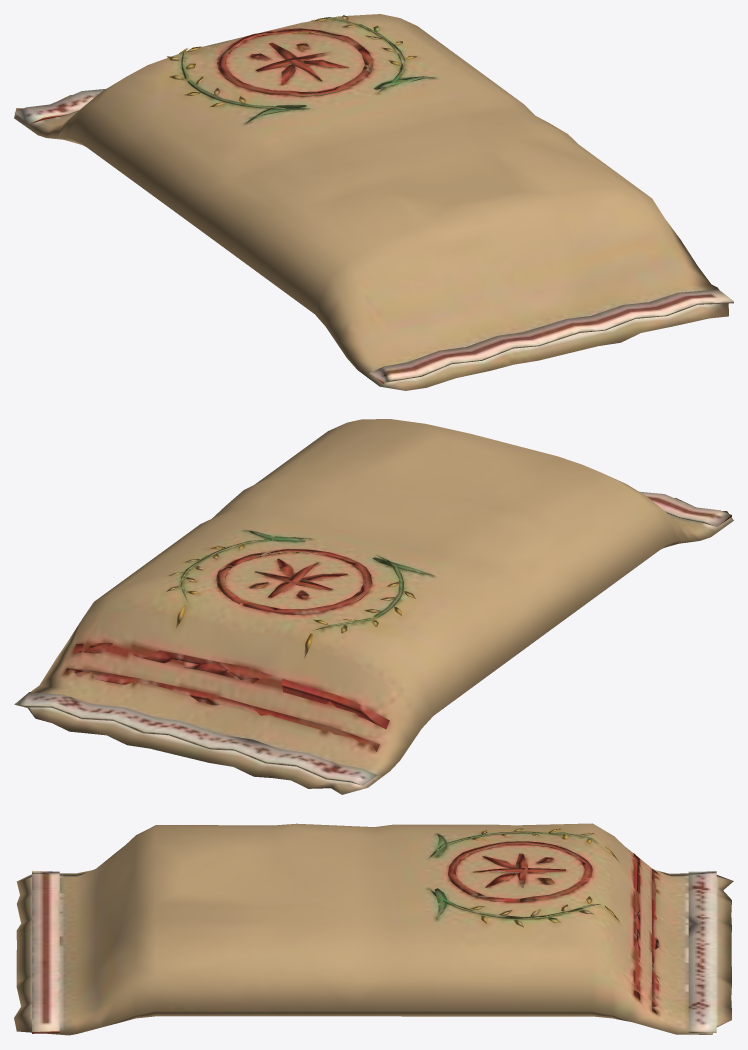
Rendered from sled_sack.glb.
3 renders of one model, top to bottom at view 1: azimuth 30°, elevation 25°; view 2: azimuth 150°, elevation 25°; view 3: azimuth 270°, elevation 25°, orthographic. The views are drawn at different scales.
Visible parts, largest first — view 1: prop_sled_sack_felt; view 2: prop_sled_sack_felt; view 3: prop_sled_sack_felt.
Boxes of the visible parts, x1,y1,x2,y2 form: prop_sled_sack_felt: (14,14,733,390); prop_sled_sack_felt: (14,419,733,794); prop_sled_sack_felt: (14,823,733,1035).
Bounding box in the file's own units: 0.5222 × 0.136 × 0.9866.
1 material, 1 textured.
